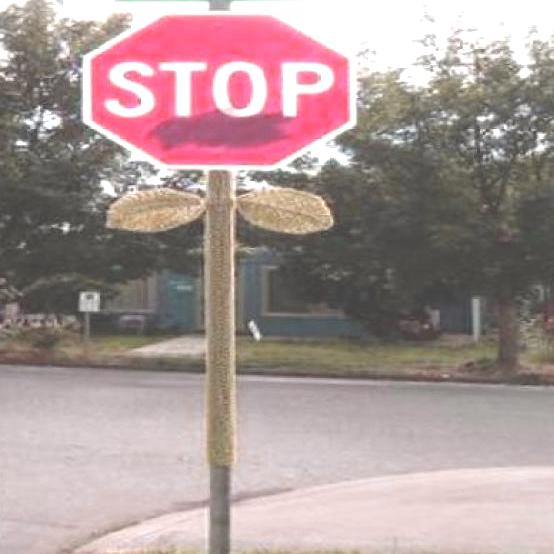stop_sign: (74, 4, 363, 182)
